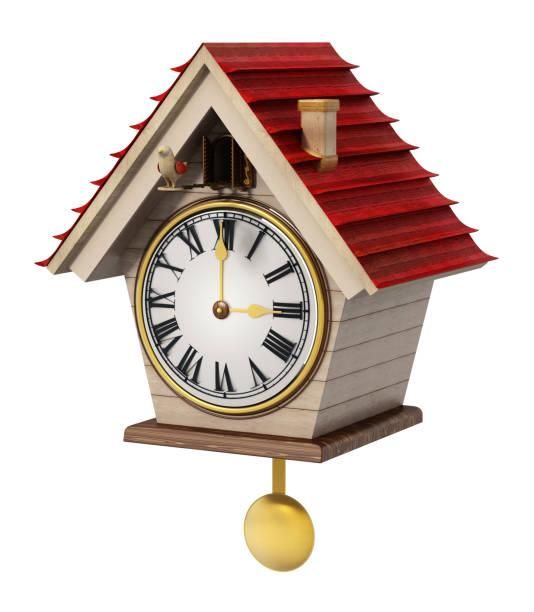clock: (139, 201, 329, 414)
